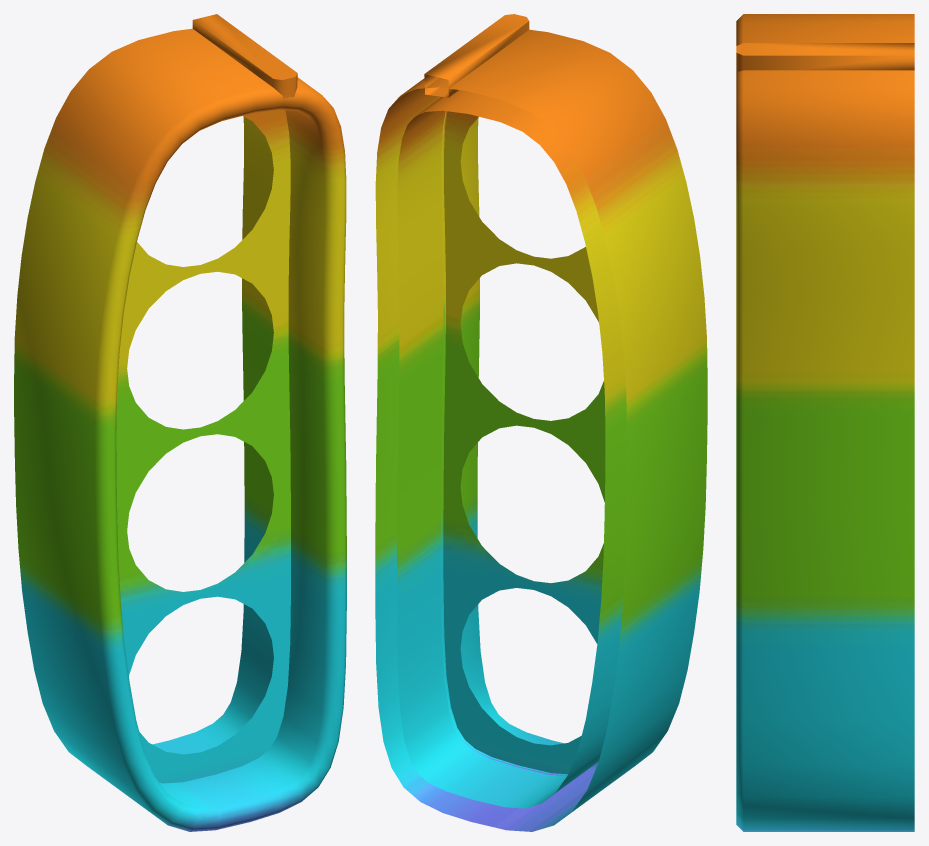
The model's file is AmongUs_Cut_05_0.FBX.
3 views of the same model, side by side, from view 1: azimuth 30°, elevation 25°; view 2: azimuth 150°, elevation 25°; view 3: azimuth 270°, elevation 25° (orthographic). The views are drawn at different scales.
Visible parts, largest first — view 1: AmongUs_Cut_05_0; view 2: AmongUs_Cut_05_0; view 3: AmongUs_Cut_05_0.
Boxes of the visible parts, x1,y1,x2,y2 form: AmongUs_Cut_05_0: [14, 14, 346, 831]; AmongUs_Cut_05_0: [375, 14, 707, 831]; AmongUs_Cut_05_0: [736, 14, 914, 831].
Bounding box in the file's own units: 1.28 × 0.74 × 3.58.
